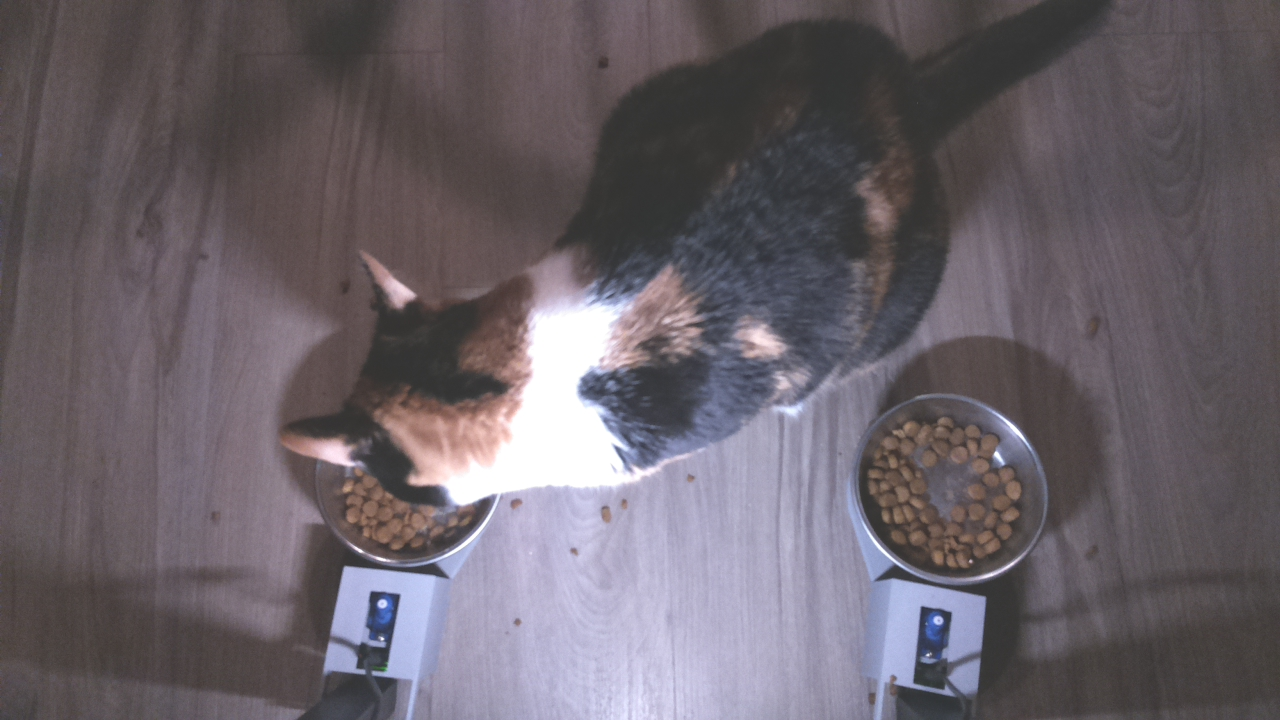bella_eating: (294, 241, 583, 569)
open_bowl: (845, 391, 1051, 587)
